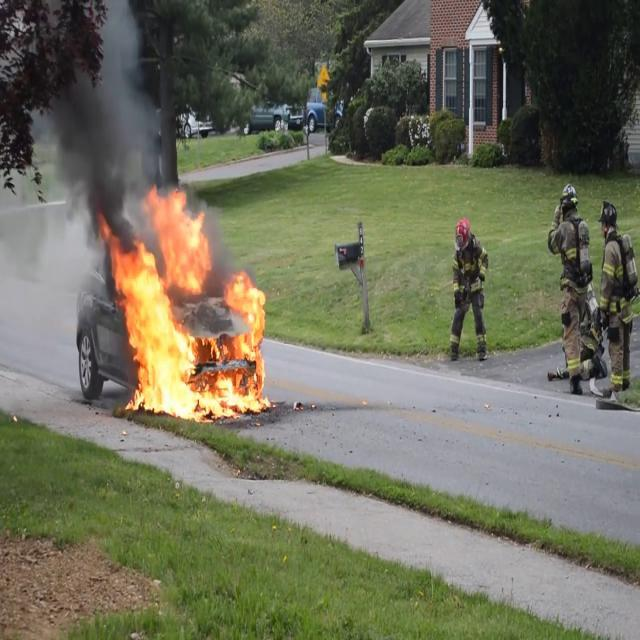Fire: (111, 187, 271, 425)
Smoke: (42, 0, 166, 242)
